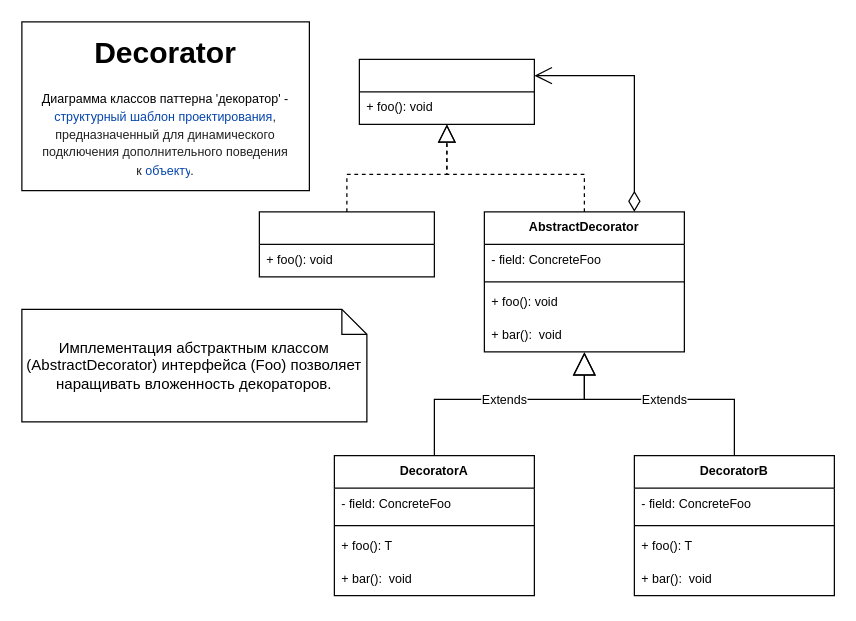
Some shapes in this 856 by 621 pixel diagram are drawn without their labels. The box of each missing label's shape, as (x1, y1, x2, y2) in pixels:
"Interface" Foo: (358, 58, 534, 124)
FooImpl: (258, 211, 434, 277)
